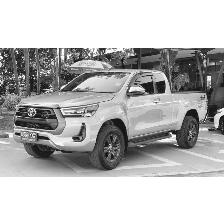NON-EV: (15, 67, 210, 172)
